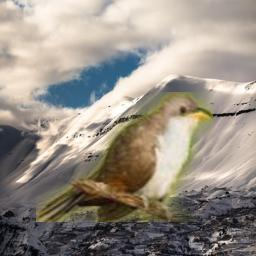Cuckoo: (36, 92, 213, 222)
